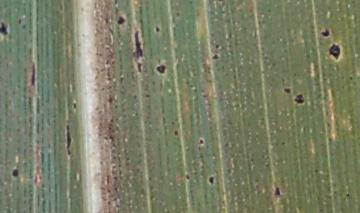tarspot: (132, 31, 143, 60), (329, 42, 341, 61), (65, 124, 72, 155), (29, 62, 37, 86), (154, 63, 166, 75), (293, 93, 305, 105), (1, 21, 9, 36), (320, 27, 330, 38), (117, 14, 126, 25), (11, 167, 20, 177), (274, 186, 281, 198), (283, 86, 292, 95), (210, 53, 220, 61), (136, 62, 142, 73), (153, 25, 161, 33), (208, 175, 215, 184), (16, 17, 23, 25), (198, 137, 204, 146), (212, 43, 220, 49), (185, 172, 190, 181), (71, 103, 78, 109), (173, 129, 179, 136), (345, 191, 351, 198), (144, 93, 150, 98), (349, 75, 354, 81)
